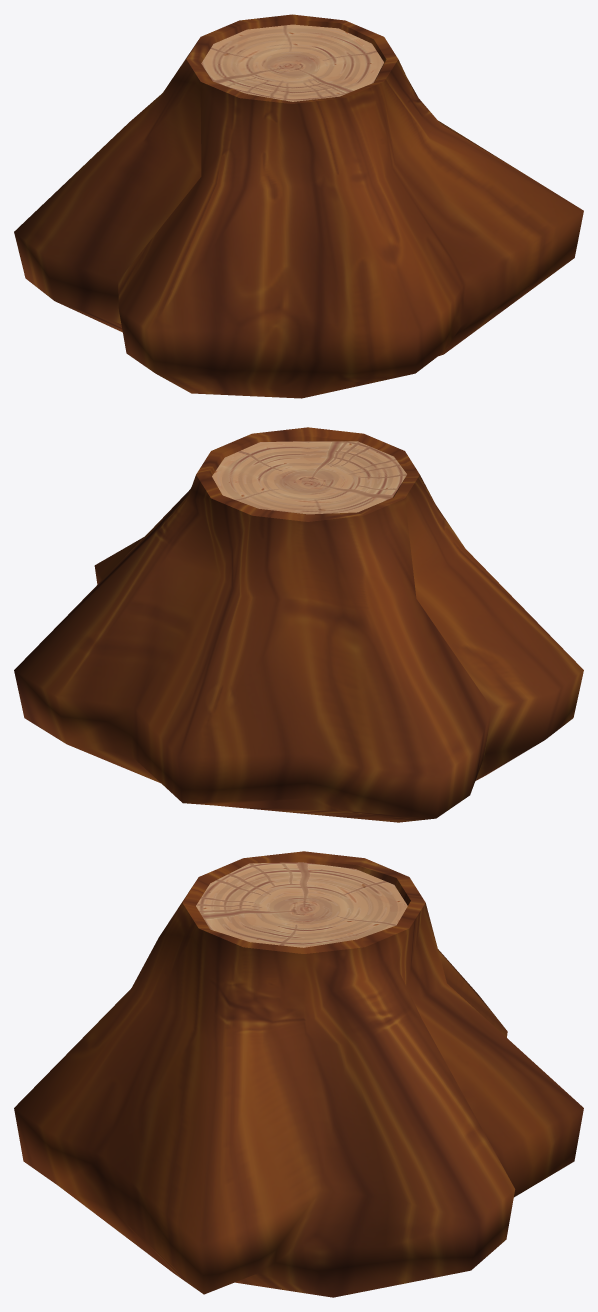
Rendered from obj_harvests_trees_spruce02_p00.fbx.
3 renders of one model, top to bottom at view 1: azimuth 30°, elevation 25°; view 2: azimuth 150°, elevation 25°; view 3: azimuth 270°, elevation 25°, orthographic. The views are drawn at different scales.
Visible parts, largest first — view 1: obj_harvests_trees_spruce02_p00; view 2: obj_harvests_trees_spruce02_p00; view 3: obj_harvests_trees_spruce02_p00.
Boxes of the visible parts, bbox=[...] form: obj_harvests_trees_spruce02_p00: bbox=[14, 14, 583, 398]; obj_harvests_trees_spruce02_p00: bbox=[14, 427, 583, 822]; obj_harvests_trees_spruce02_p00: bbox=[14, 851, 583, 1297].
Bounding box in the file's own units: 8.67 × 6.04 × 8.28.
